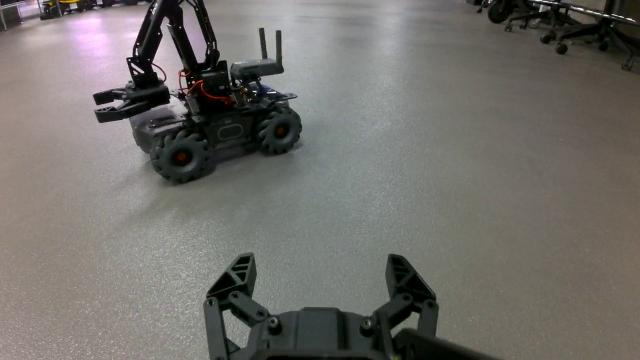robot: (92, 0, 302, 184)
